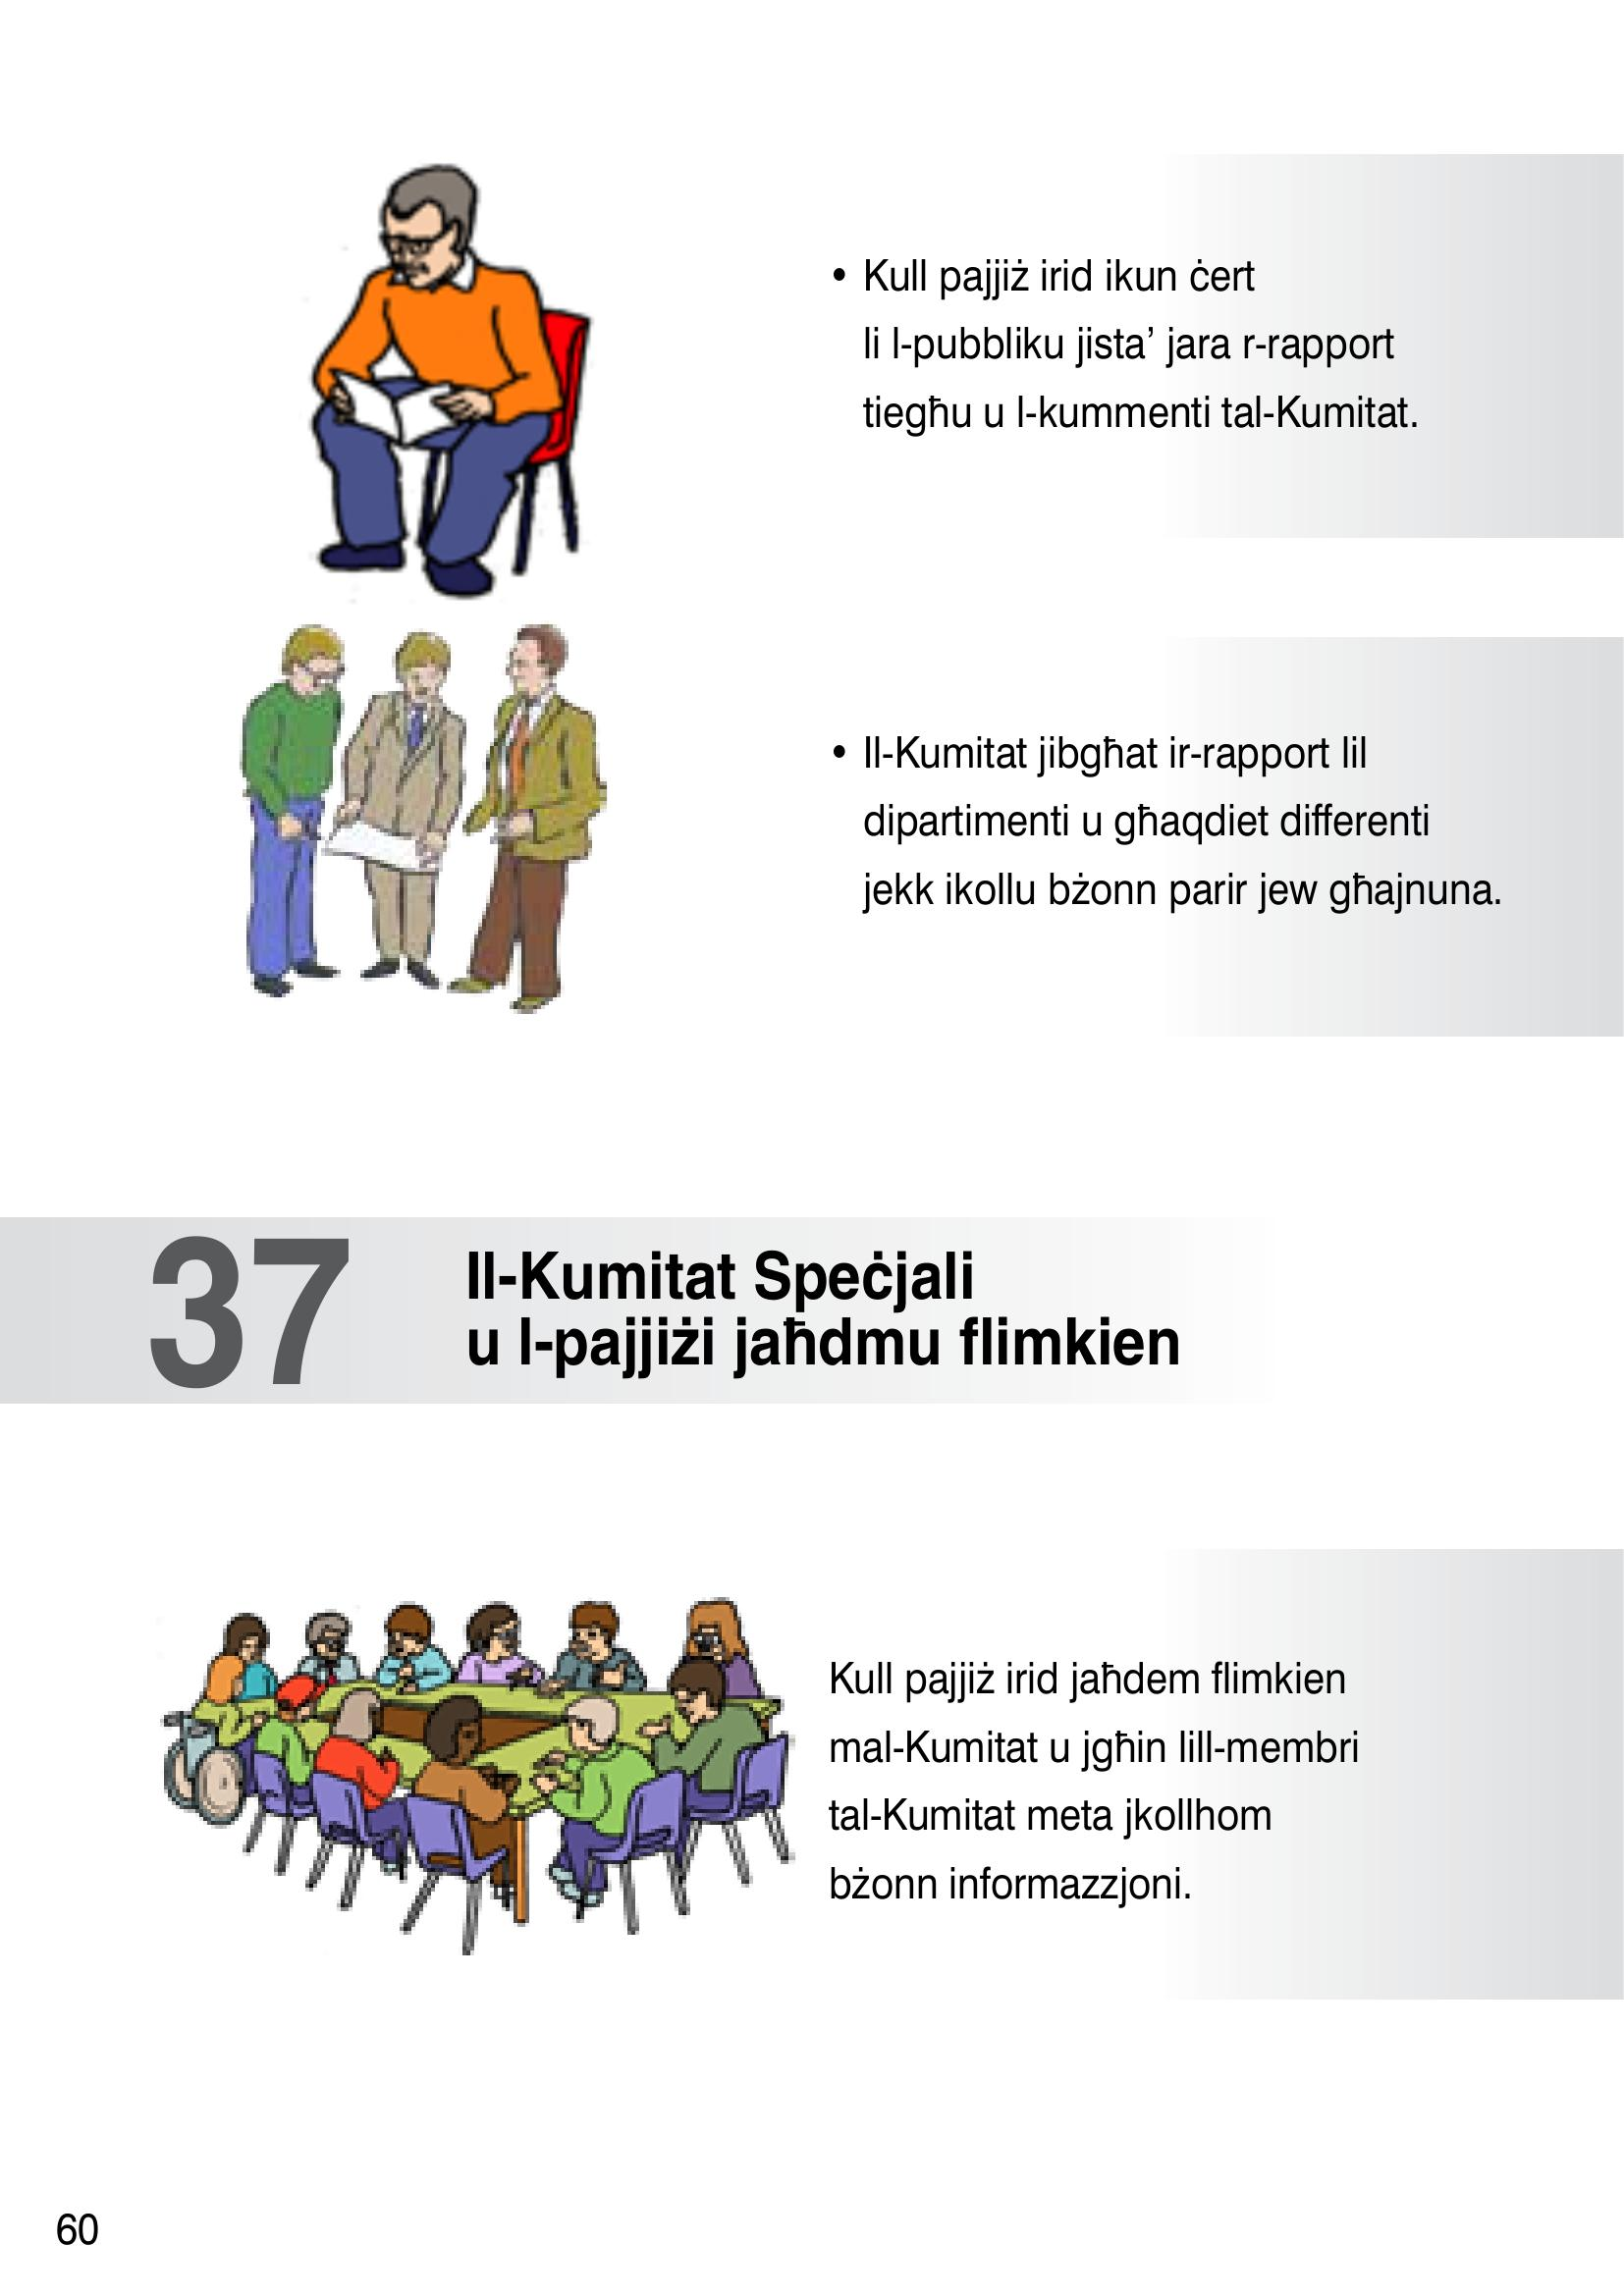text: (814, 218, 1533, 977), (114, 1207, 1199, 1405), (810, 1620, 1396, 1948)
